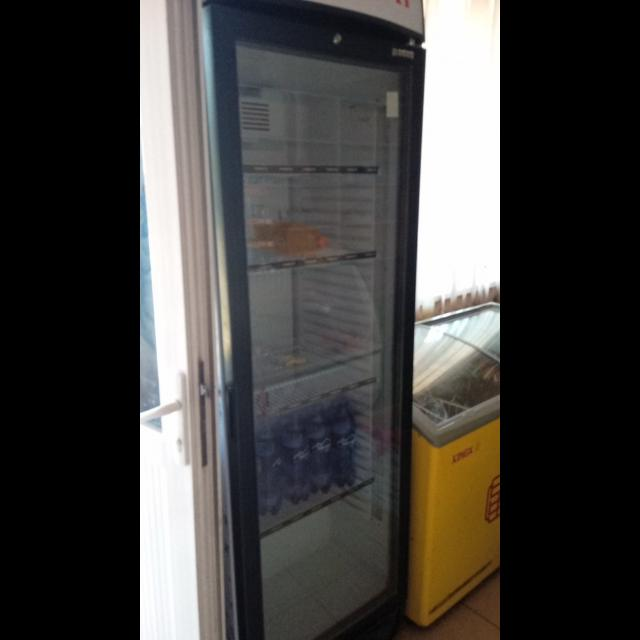Cooling-Display: (202, 1, 426, 640)
